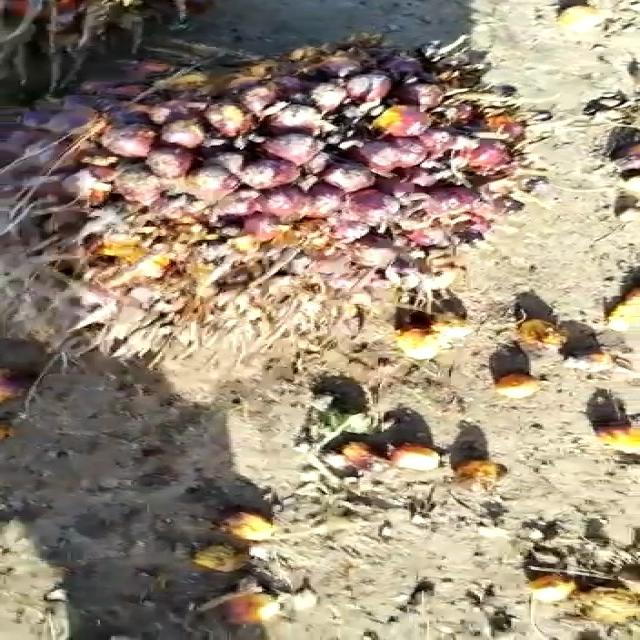palm oil: (0, 20, 575, 367)
